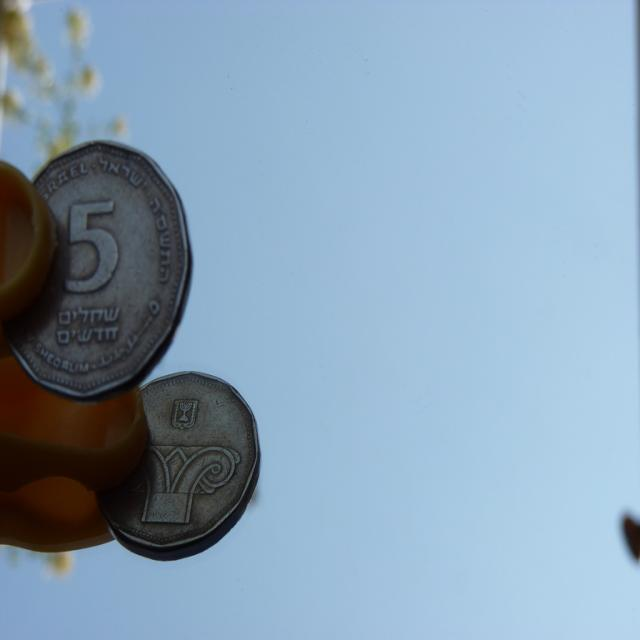Coin: (6, 135, 195, 405), (110, 366, 265, 560)
